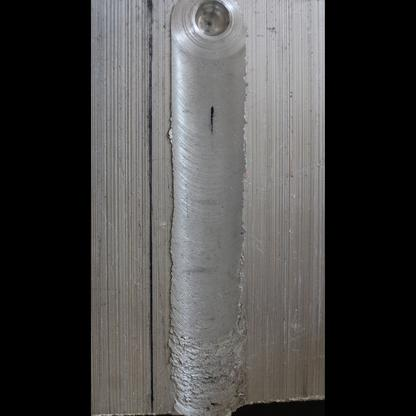cross-section reduction defect: (167, 278, 251, 407)
galling: (165, 330, 246, 414)
keyhole: (168, 1, 248, 60)
void: (203, 396, 220, 412)
